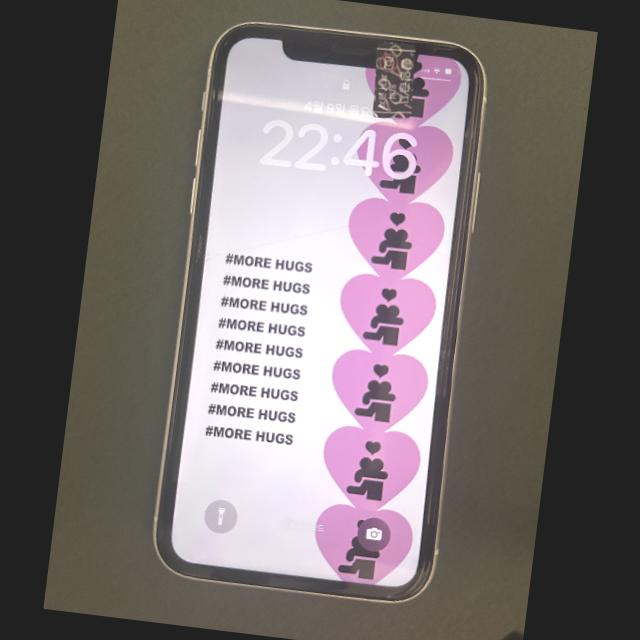phone: (154, 22, 486, 602)
sticker: (372, 43, 415, 118)
